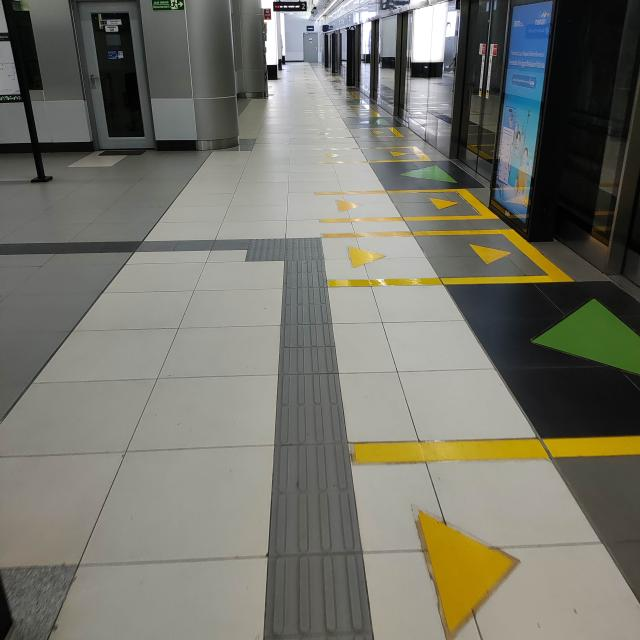kiri: (190, 222, 339, 278)
